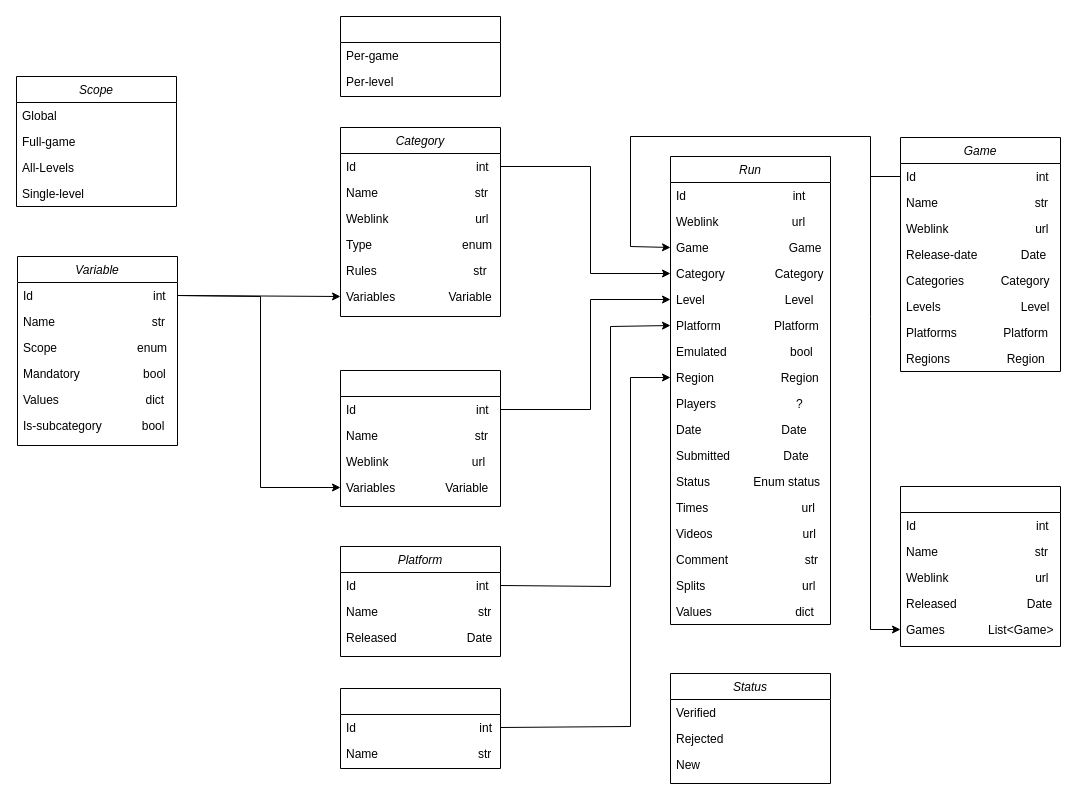
This 1077x800 diagram has some shape labels left out. Each missing label, with the box of its shape:
Level: (340, 370, 500, 506)
Region: (340, 688, 500, 768)
Series: (900, 486, 1060, 646)
Type: (340, 16, 500, 96)
